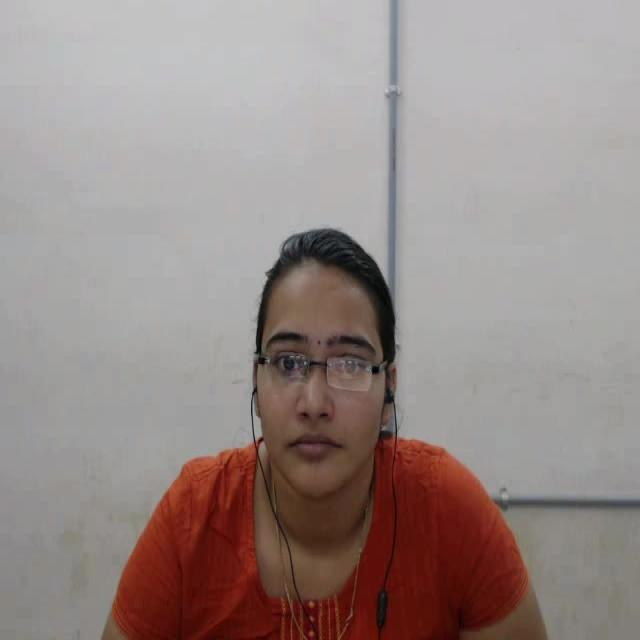Engaged: (202, 209, 408, 535)
